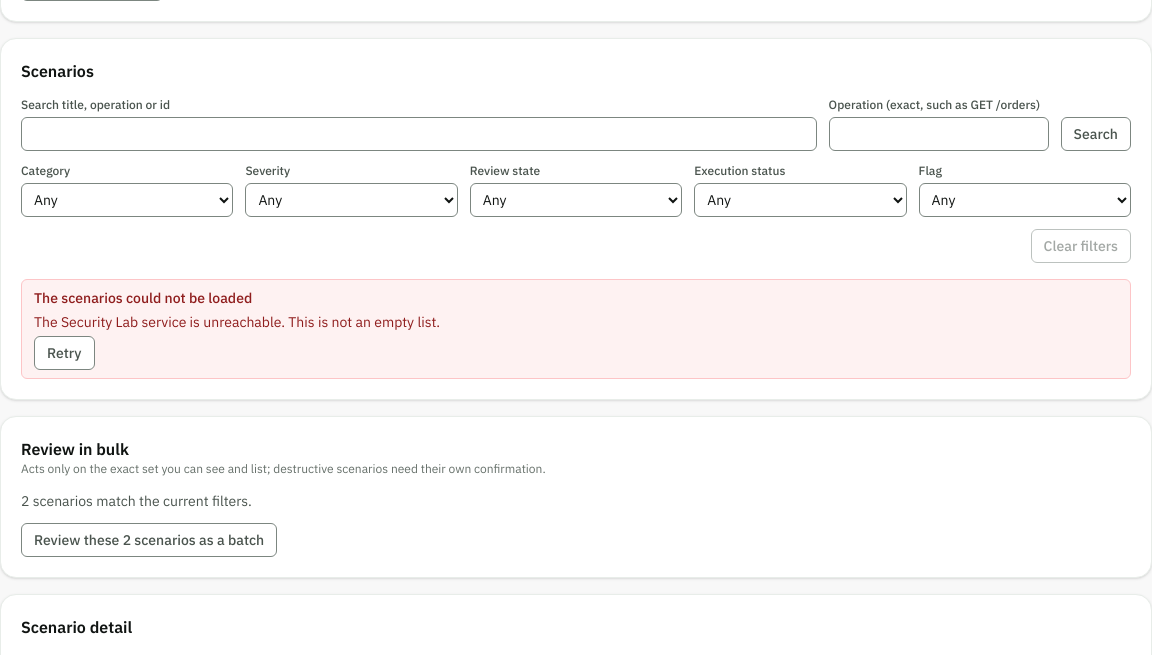
ScenariosArea (T079, FR-004, FR-018 to FR-033) › shows an unreadable list as an error with a retry, never as an empty list
(page scrolled)
Check: the message with test id "scenario-list-error" shows "The Security Lab service is unreachable.", box [34,313,440,331]
Check: the message with test id "scenario-list-error" shows "This is not an empty list.", box [34,313,440,331]
Click the button "Retry": (64, 353) [34,336,94,370]
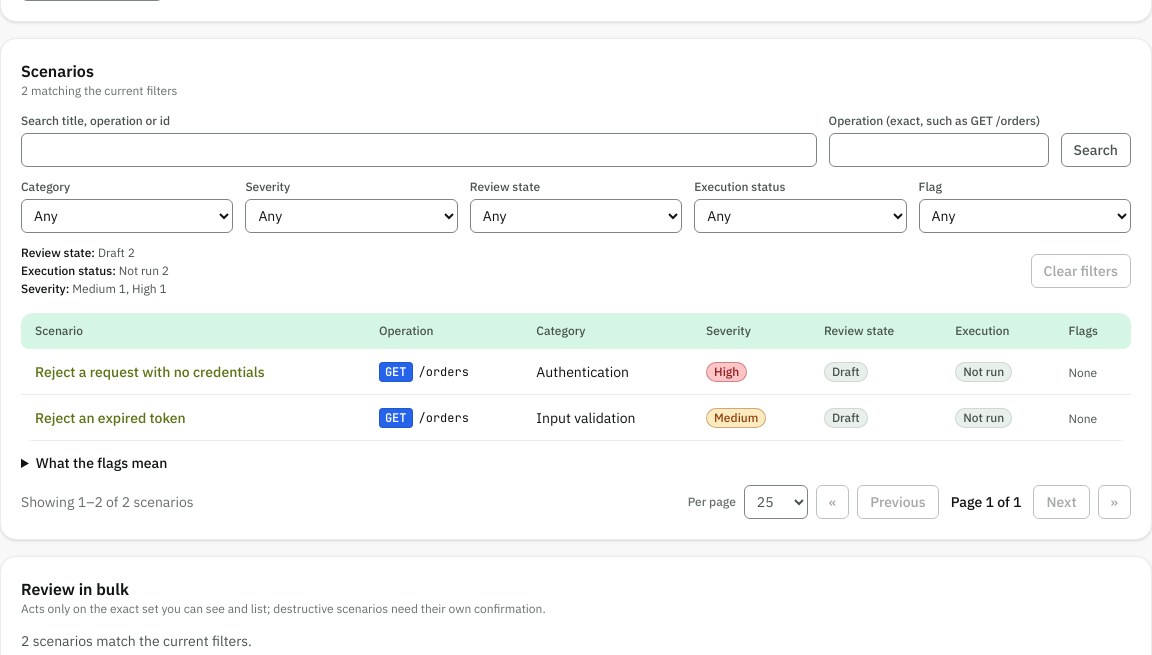
Check: the number of rows with test id "scenario-row" is 2, box [21,349,1131,394]; [21,394,1131,440]
